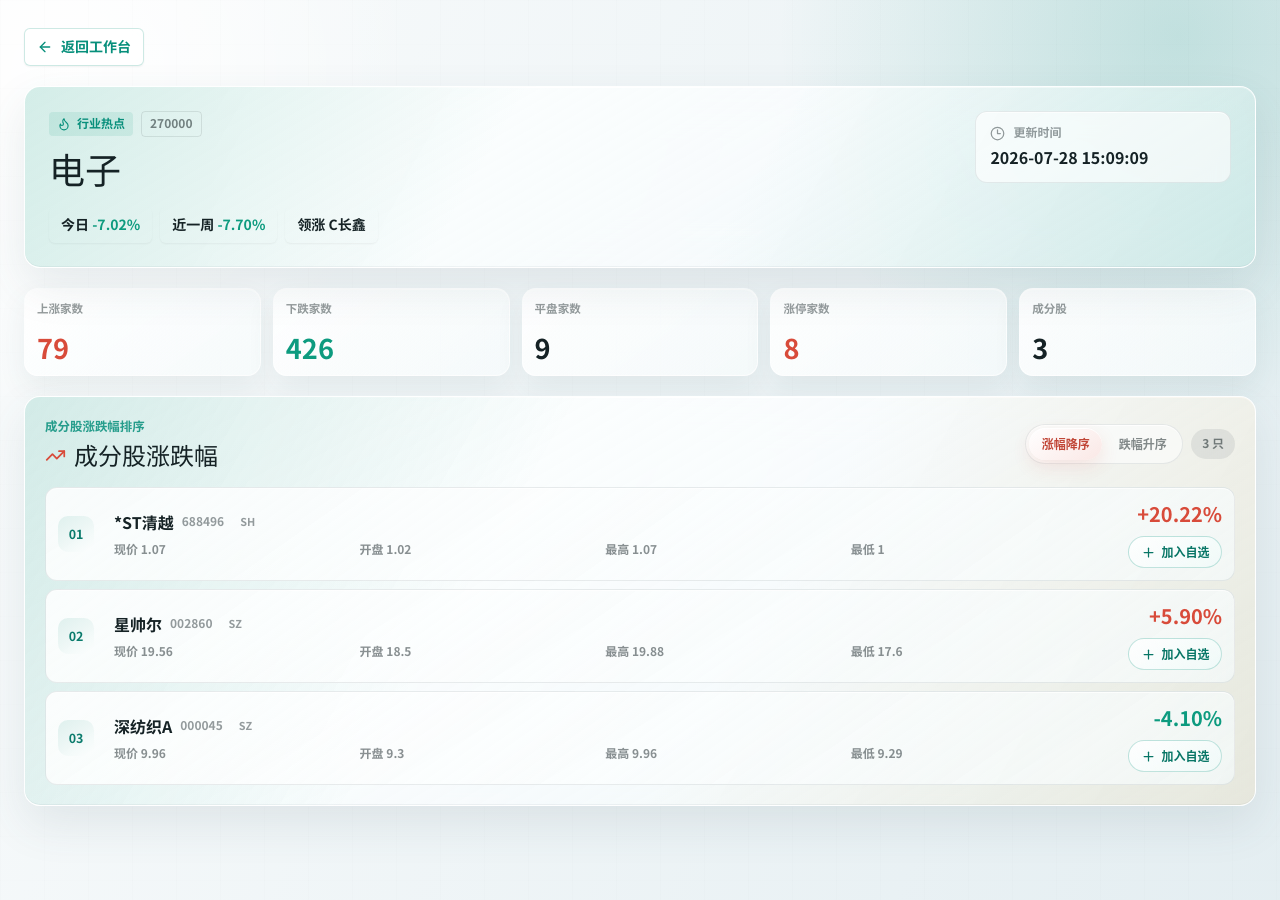
HotspotDetailView › adds an individual component stock to the watchlist
The image size is (1280, 900).
Click the button with aria-label "加入自选 星帅尔".
click(1175, 654)  # box [1128,638,1222,670]
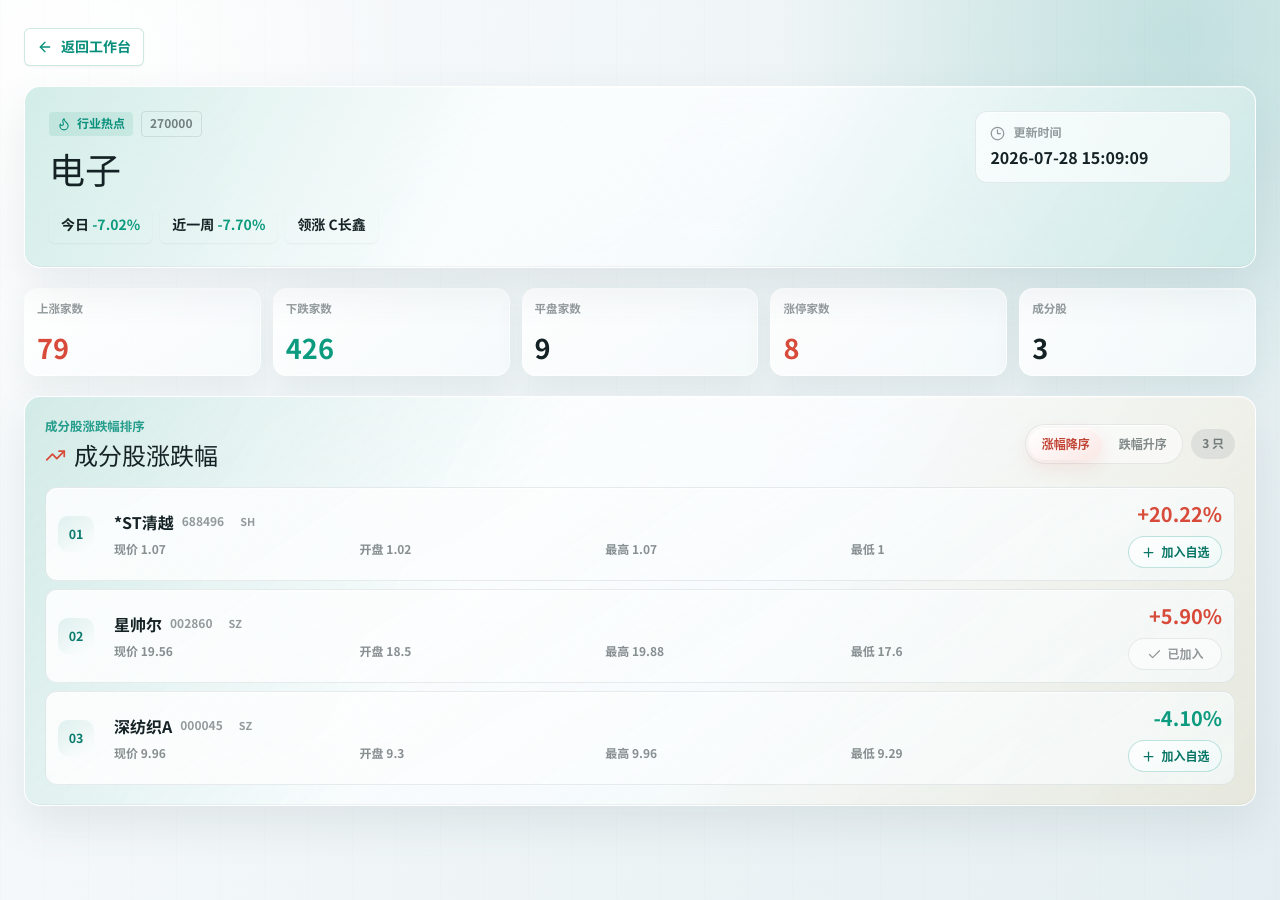
Check: the button with aria-label "已加入 星帅尔" is disabled, box [1128,638,1222,670]
